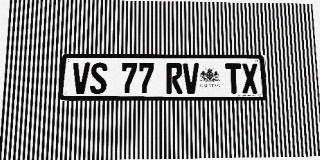7: (120, 63, 137, 94), (138, 63, 154, 94)
R: (166, 63, 183, 94)
S: (90, 62, 107, 94)
T: (225, 63, 242, 94)
V: (72, 62, 90, 94), (183, 63, 199, 94)
X: (241, 63, 258, 94)
